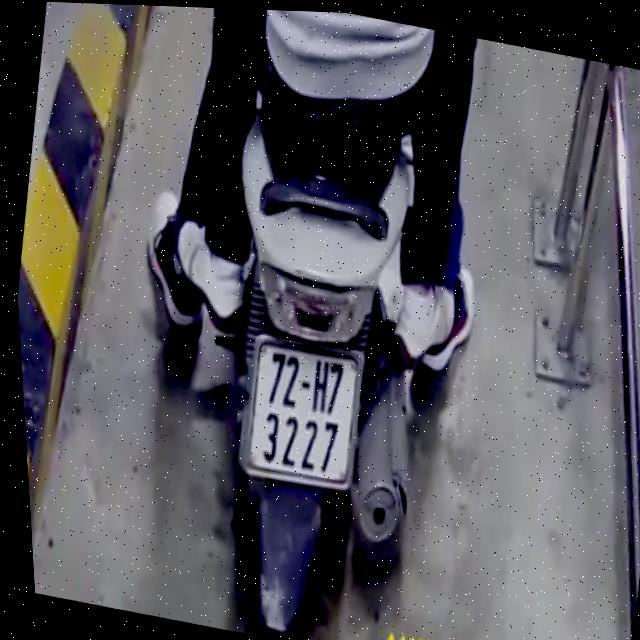motorcycle: (149, 102, 480, 640)
plate: (226, 325, 381, 495)
